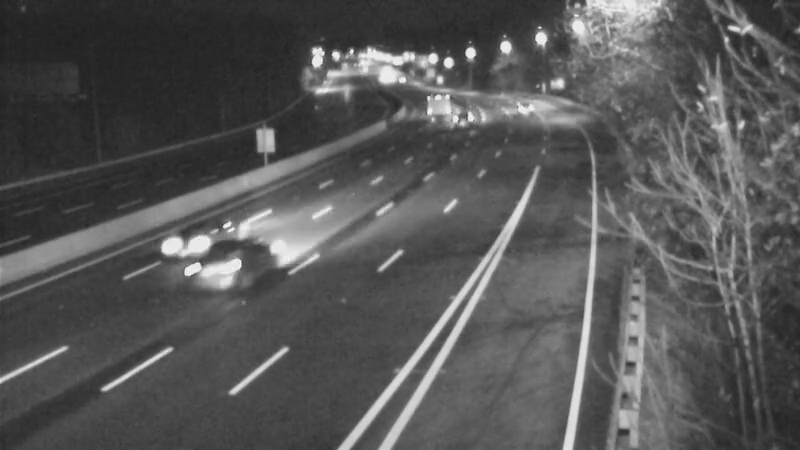vehicle: (172, 228, 252, 308), (137, 204, 217, 284), (495, 79, 545, 129), (406, 79, 456, 129), (438, 93, 488, 143)
